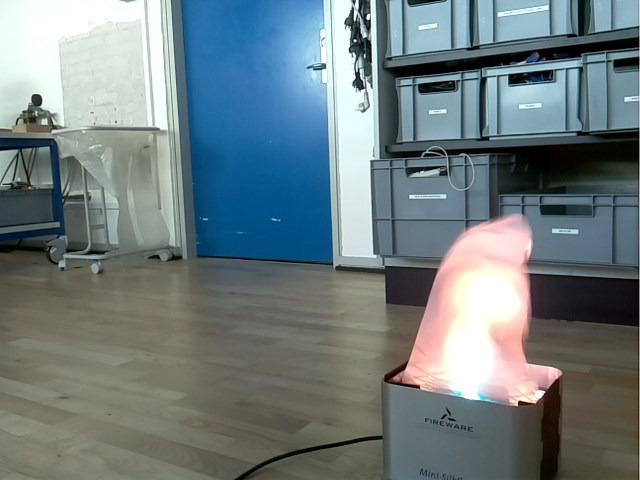fire: (400, 214, 540, 406)
